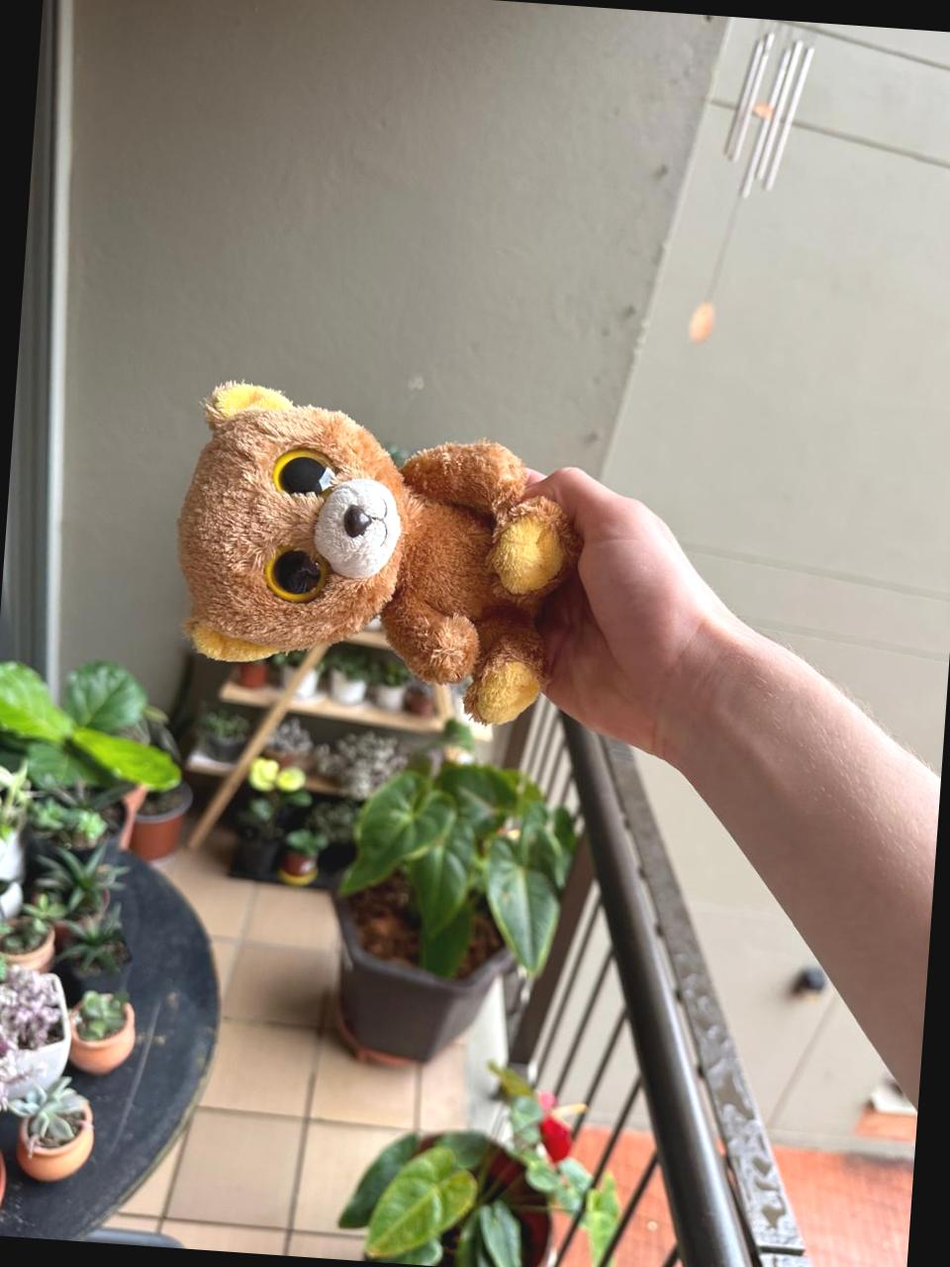peluche_sebastian: (170, 376, 588, 729)
